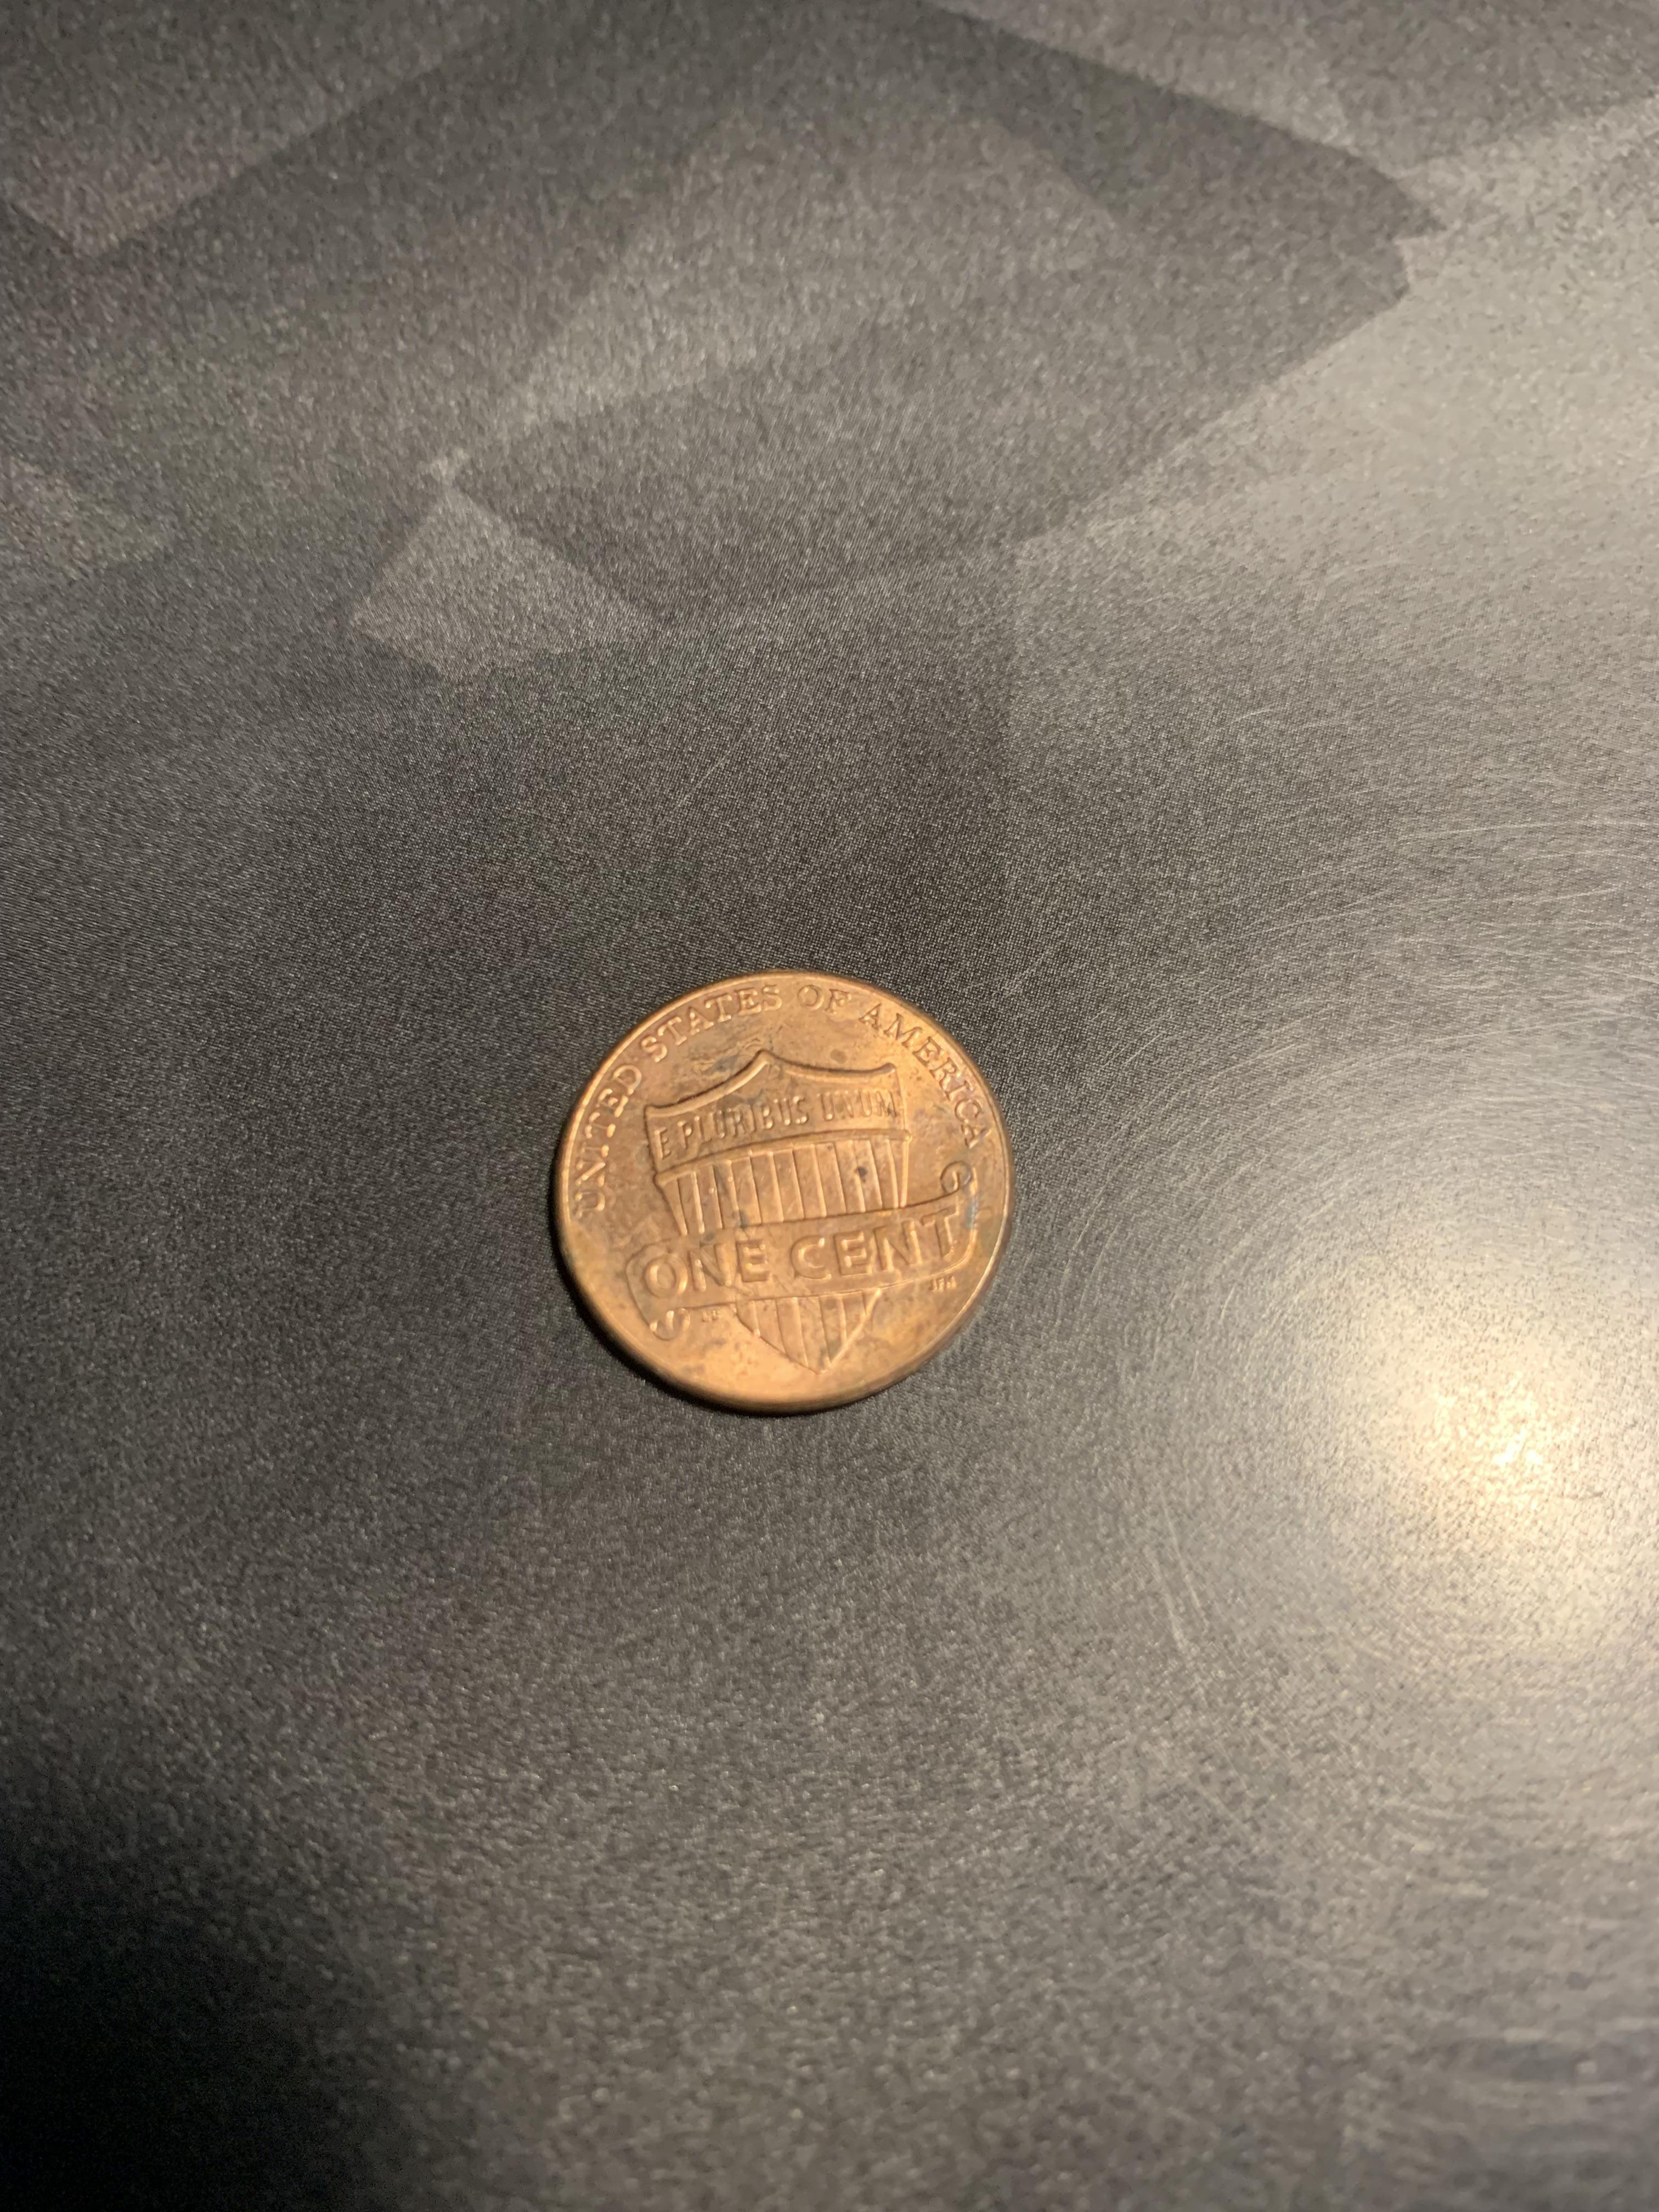Penny: (525, 956, 1033, 1425)
